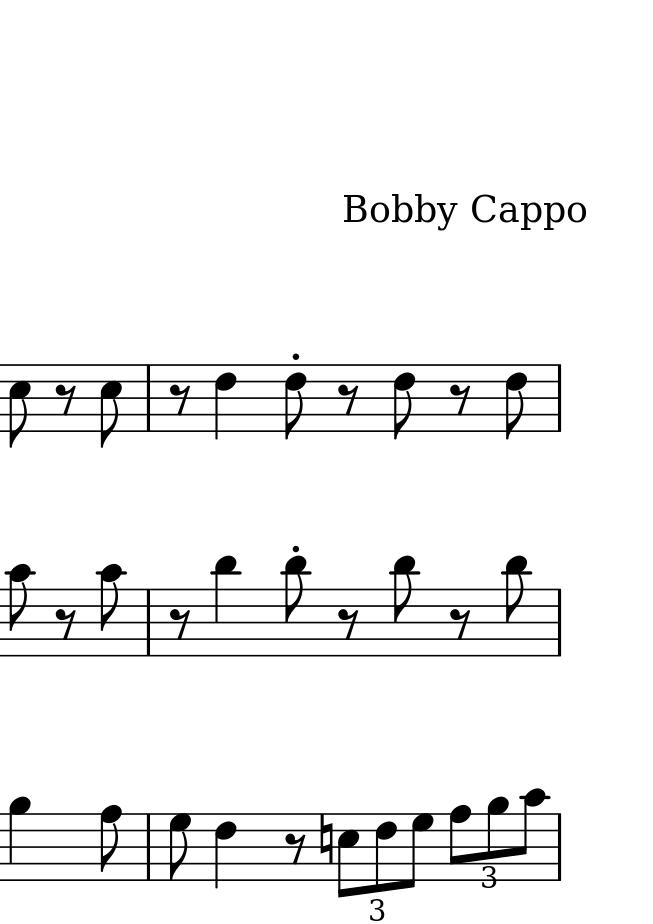3: (368, 898, 386, 922), (481, 866, 497, 888)
4_11: (211, 554, 241, 658)
4_6: (213, 812, 237, 889), (213, 363, 237, 439)
4_9: (8, 794, 30, 883)
8_10: (519, 786, 549, 883), (97, 564, 126, 659), (7, 562, 34, 656)
8_11: (388, 554, 419, 658), (503, 552, 531, 659), (282, 554, 311, 657)
8_5: (7, 362, 33, 448), (98, 363, 124, 449), (336, 811, 360, 900)
8_6: (391, 363, 418, 440), (283, 364, 309, 440), (504, 364, 530, 440), (374, 812, 397, 894)
8_7: (404, 812, 433, 888), (167, 811, 192, 881)
8_8: (97, 804, 123, 882), (448, 804, 472, 883)
8_9: (487, 798, 509, 886)
Natural: (318, 812, 334, 867)
Rests8: (54, 382, 78, 417), (449, 382, 473, 417), (168, 383, 192, 417), (337, 382, 360, 417), (168, 606, 192, 639), (337, 606, 360, 639), (449, 606, 472, 639), (285, 831, 307, 865), (55, 608, 77, 639)
Single_barline: (550, 811, 568, 883), (550, 589, 567, 655), (551, 364, 567, 433), (140, 589, 156, 655), (141, 814, 157, 879), (141, 364, 156, 431)
